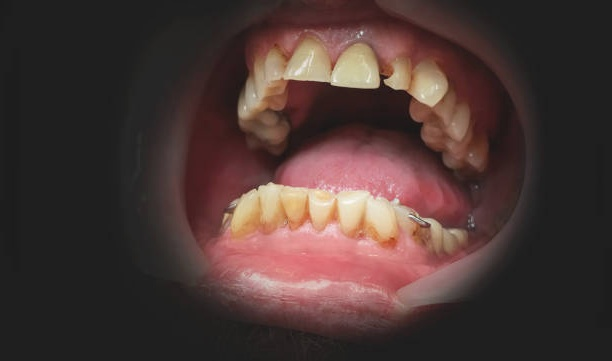Caries: (403, 214, 440, 255), (266, 103, 298, 130)
